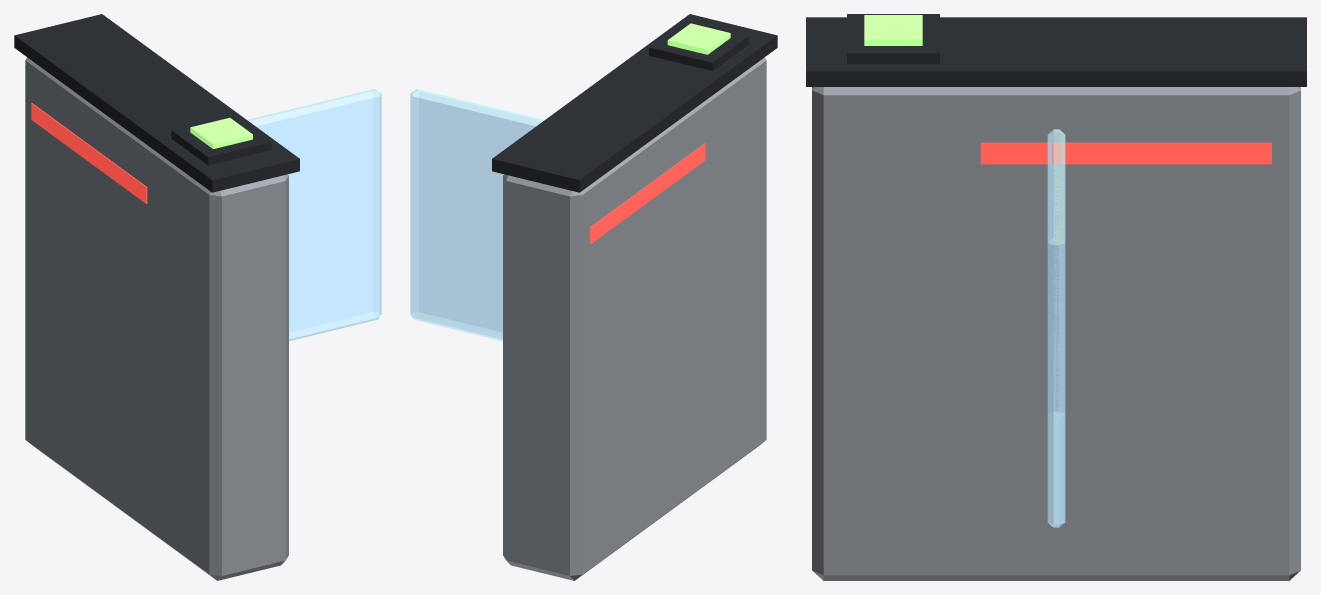
The model's file is speed_gate.glb.
The picture shows the model from 3 angles, left to right: view 1: azimuth 30°, elevation 25°; view 2: azimuth 150°, elevation 25°; view 3: azimuth 270°, elevation 25°; orthographic projection. The views are drawn at different scales.
Parts seen in each view (by area): view 1: speed_gate_mesh, GateFlap; view 2: speed_gate_mesh, GateFlap; view 3: speed_gate_mesh, GateFlap.
Part boxes in pixels (bbox=[...]): speed_gate_mesh: bbox=[14, 14, 299, 580]; GateFlap: bbox=[247, 89, 381, 341]; speed_gate_mesh: bbox=[492, 14, 777, 580]; GateFlap: bbox=[410, 89, 544, 341]; speed_gate_mesh: bbox=[806, 14, 1306, 580]; GateFlap: bbox=[1047, 129, 1065, 527].
Size of the model in its own units: 0.67 by 1.01 by 0.86.
